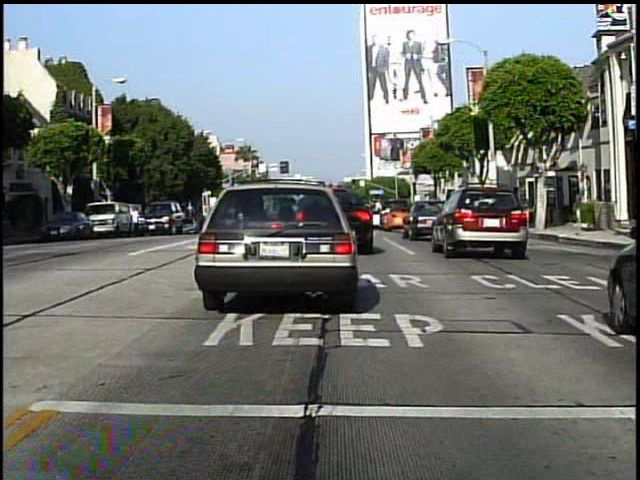person: (130, 203, 143, 238)
